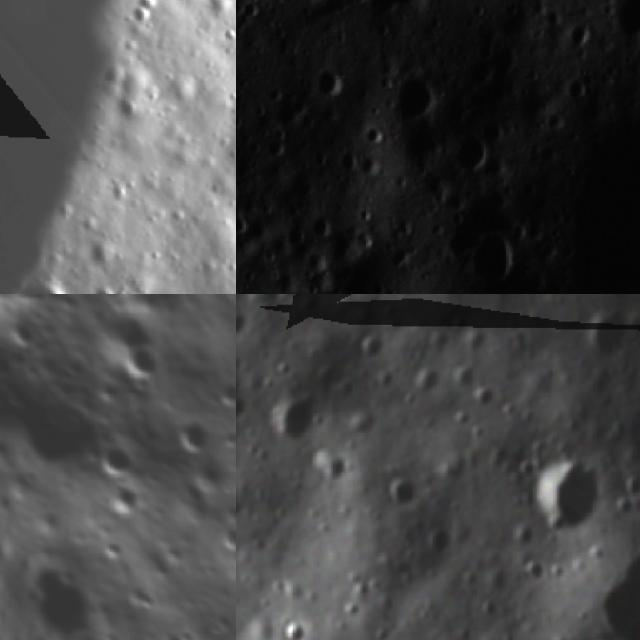crater: (453, 229, 529, 293), (533, 460, 598, 526), (389, 67, 447, 127), (444, 127, 498, 182), (577, 308, 631, 359), (267, 400, 319, 443), (7, 267, 84, 294), (600, 0, 640, 49), (173, 418, 214, 463), (352, 324, 390, 367), (313, 62, 350, 106), (106, 482, 146, 519), (100, 440, 136, 479), (127, 346, 161, 384), (390, 473, 423, 510), (130, 586, 160, 616), (359, 119, 388, 150), (450, 364, 478, 393), (472, 388, 498, 414), (100, 540, 126, 564), (254, 294, 293, 310), (282, 616, 308, 640), (90, 635, 113, 640)
